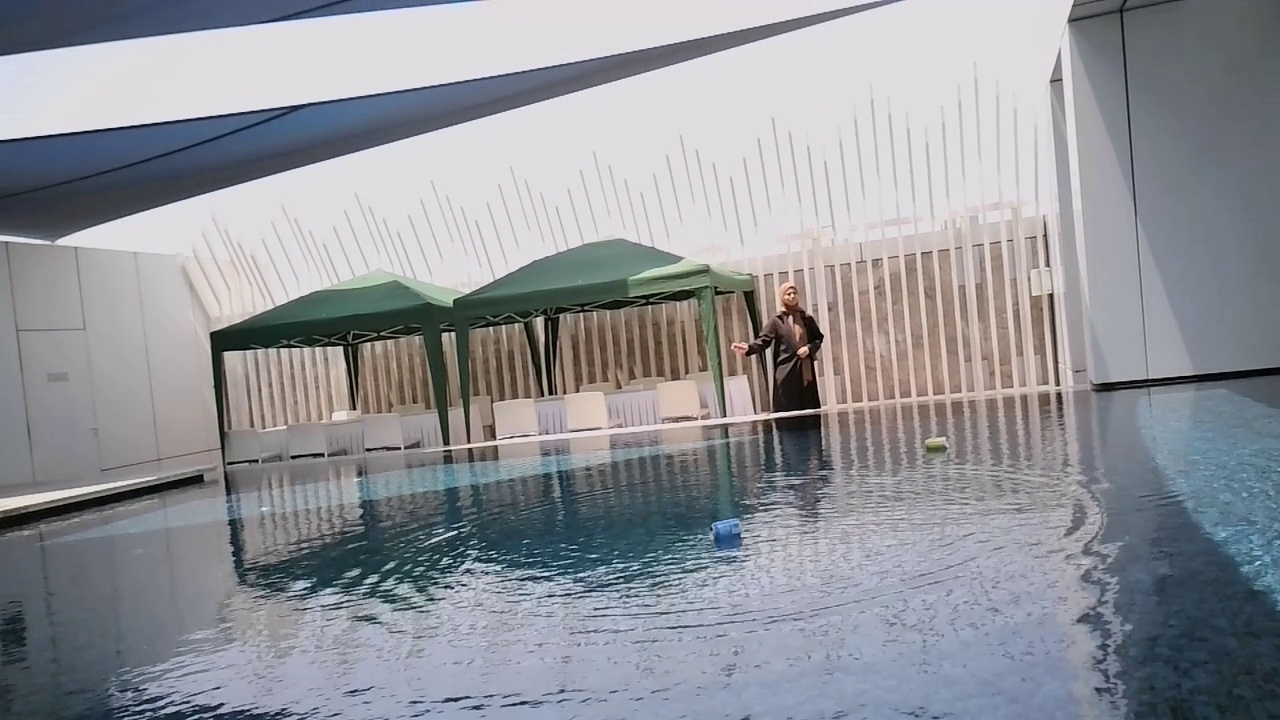debris: (705, 514, 743, 547), (922, 434, 952, 457)
